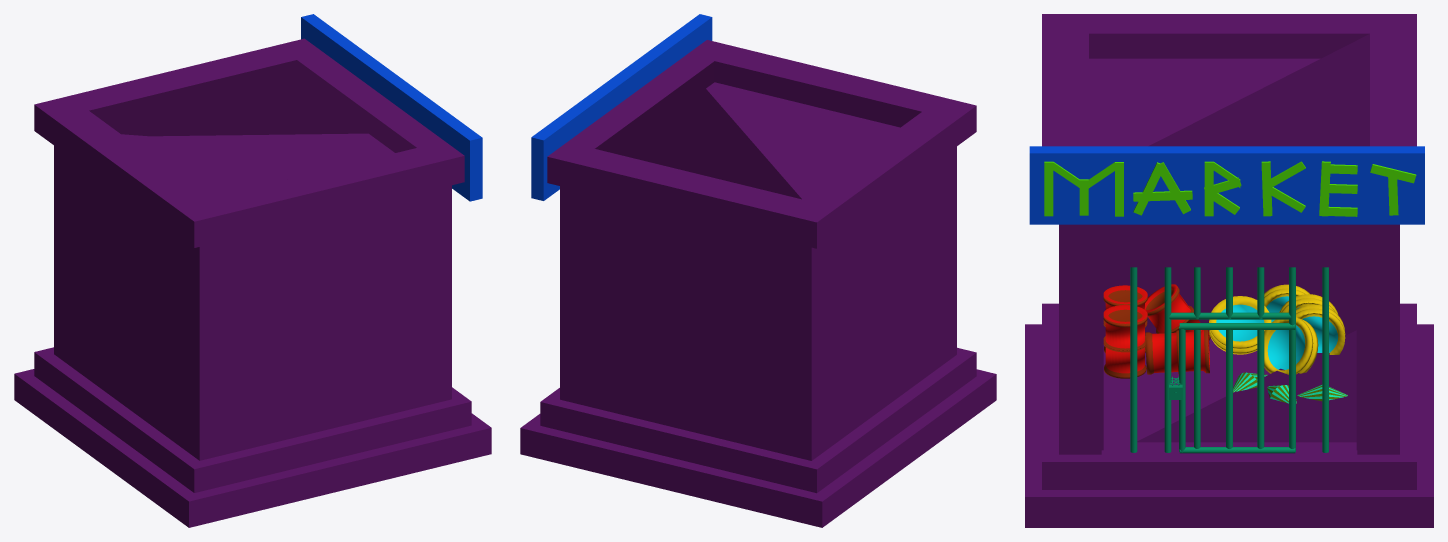
Rendered from Market_BabsKiller.fbx.
3 renders of one model, left to right at view 1: azimuth 30°, elevation 25°; view 2: azimuth 150°, elevation 25°; view 3: azimuth 270°, elevation 25°, orthographic. The views are drawn at different scales.
Visible parts, largest first — view 1: Cube.094; view 2: Cube.094; view 3: Cube.094.
Boxes of the visible parts, box(x1,y1,x2,y2) form: Cube.094: box(14, 14, 491, 527); Cube.094: box(520, 14, 996, 527); Cube.094: box(1025, 14, 1433, 527).
Size of the model in its own units: 60.29 by 60.29 by 60.29.
